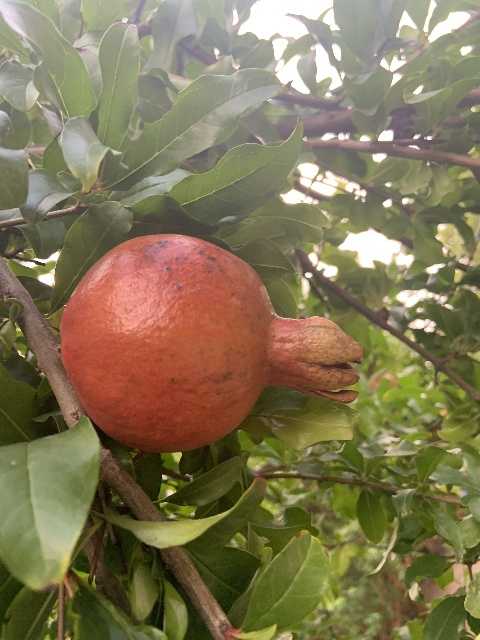ripe: (59, 233, 363, 452)
